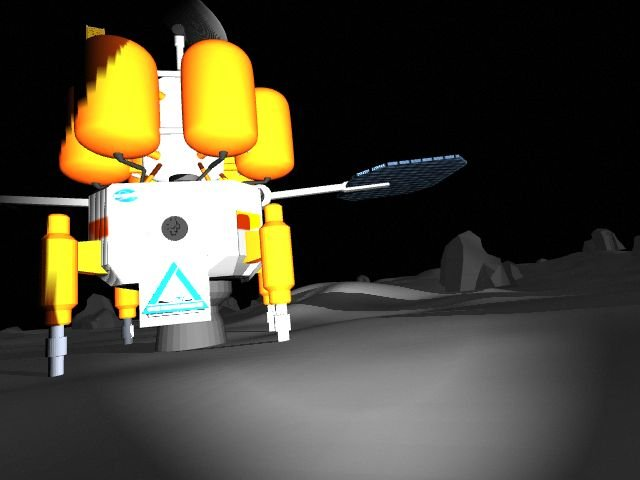basemarker: (140, 260, 211, 317)
